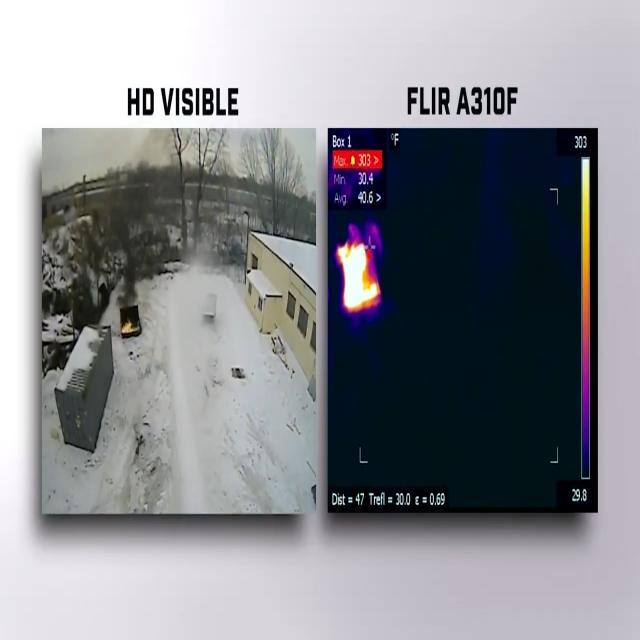fire: (339, 237, 383, 314)
